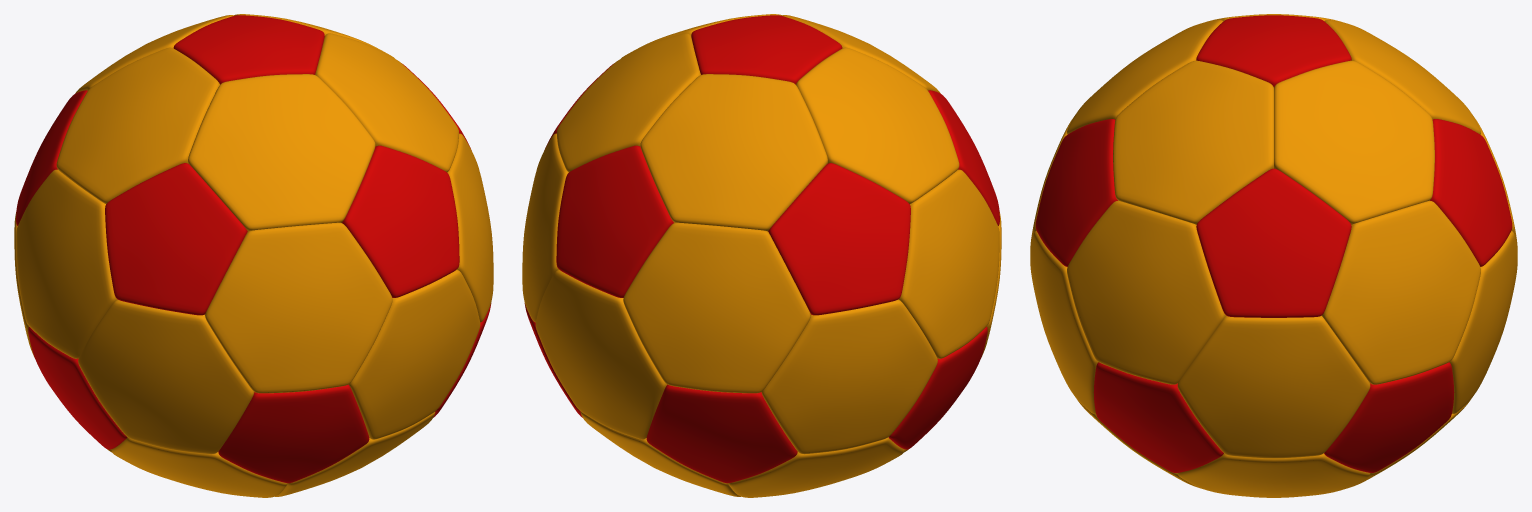
File: soccerBall.glb
The picture shows the model from 3 angles, left to right: view 1: azimuth 30°, elevation 25°; view 2: azimuth 150°, elevation 25°; view 3: azimuth 270°, elevation 25°; orthographic projection.
Visible parts, largest first — view 1: Icosphere; view 2: Icosphere; view 3: Icosphere.
Boxes of the visible parts, left/top/right/bottom form: Icosphere: left=14, top=14, right=493, bottom=497; Icosphere: left=522, top=14, right=1001, bottom=497; Icosphere: left=1030, top=14, right=1517, bottom=497.
Bounding box in the file's own units: 0.2152 × 0.2158 × 0.2175.
